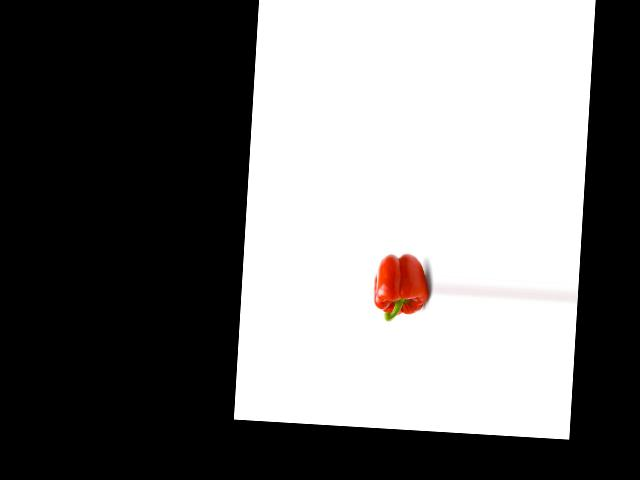bell_pepper: (372, 246, 430, 327)
